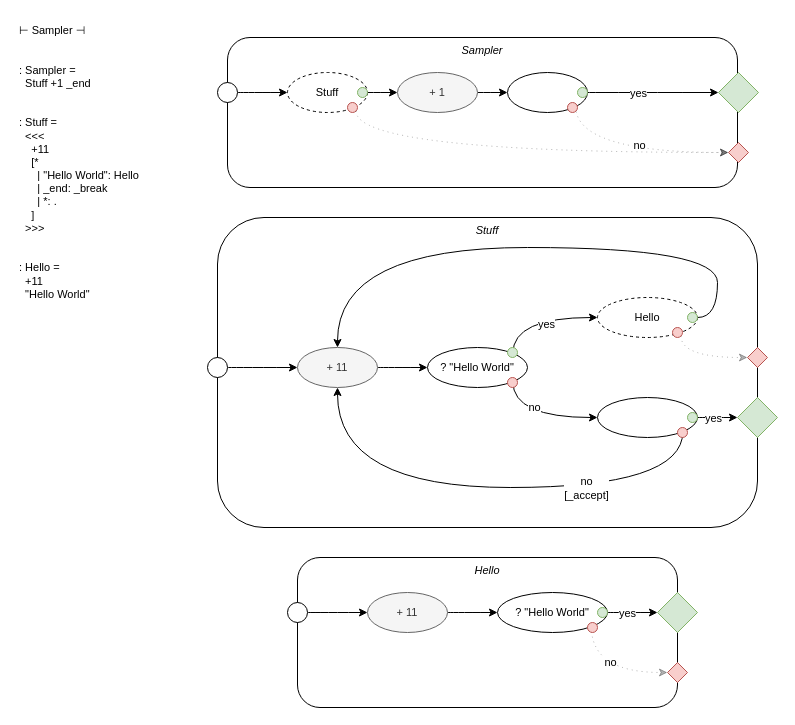
Image size: 795x725. Some labels were removed from this diagram. The shapes that lost their labels are listed below. From the top down, each one's centre as x and y in pixels, then its label:
At point 547,92: "! _end".
At point 647,417: "? _end".
